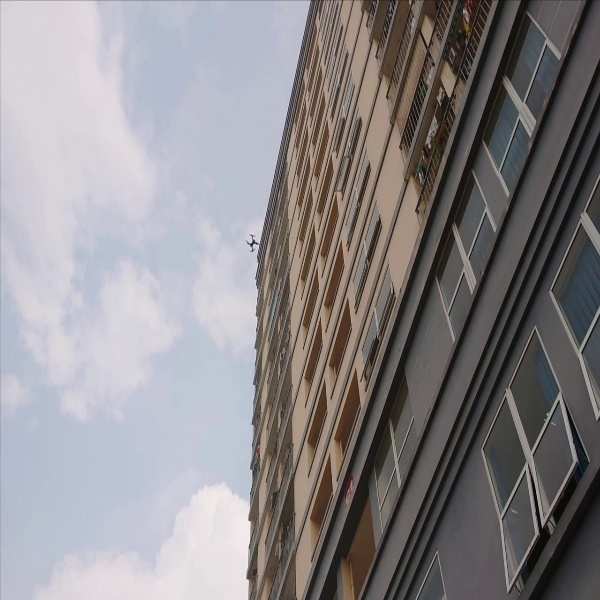drone: (239, 231, 260, 253)
